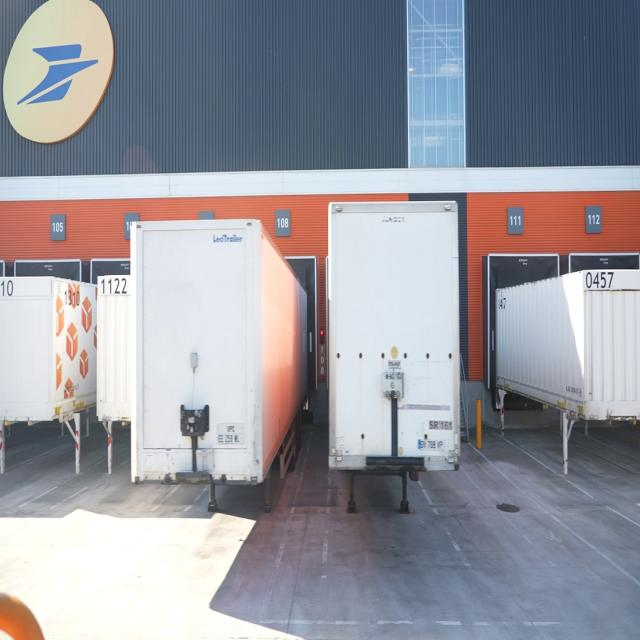Code: (582, 271, 620, 293), (98, 275, 131, 299), (62, 284, 81, 312)
